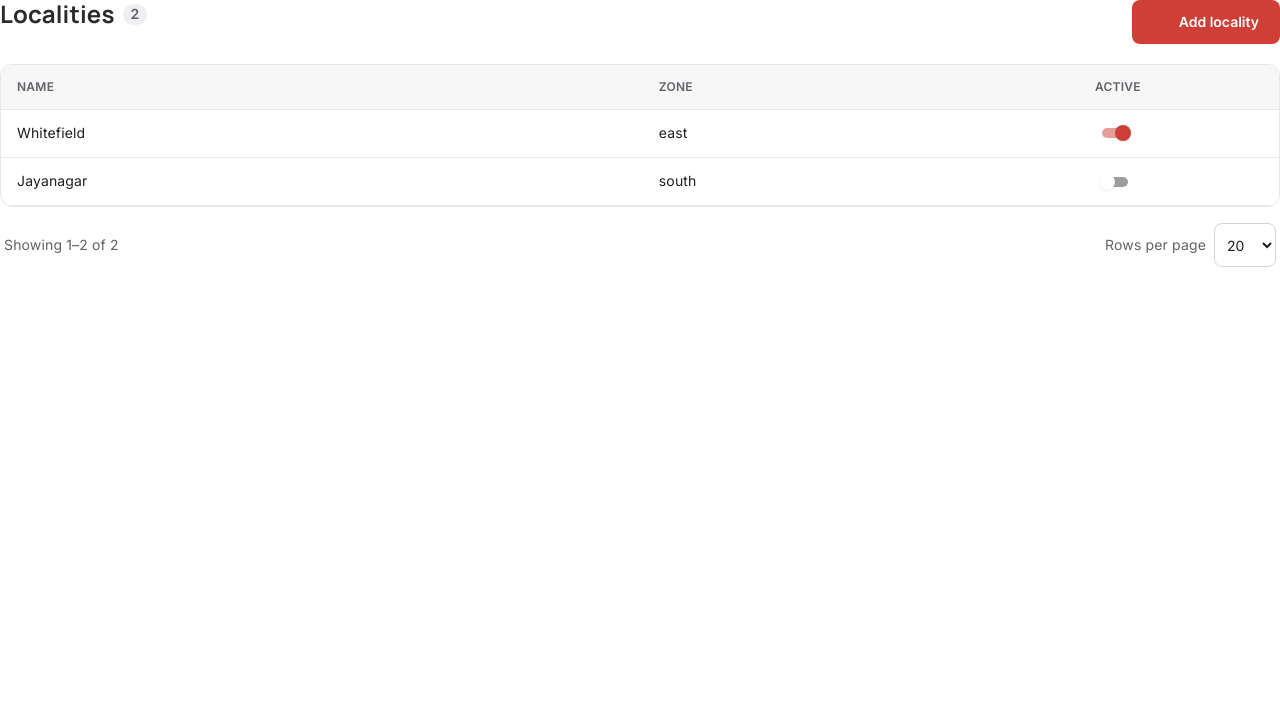
Test: MasterDataPage › field names in messages (QA-55) › names a field by its label rather than its key
Expected: the text "Whitefield" is shown, [1,110,643,158]
Click the button "Add locality" at (1206, 22), box [1132,0,1279,44]
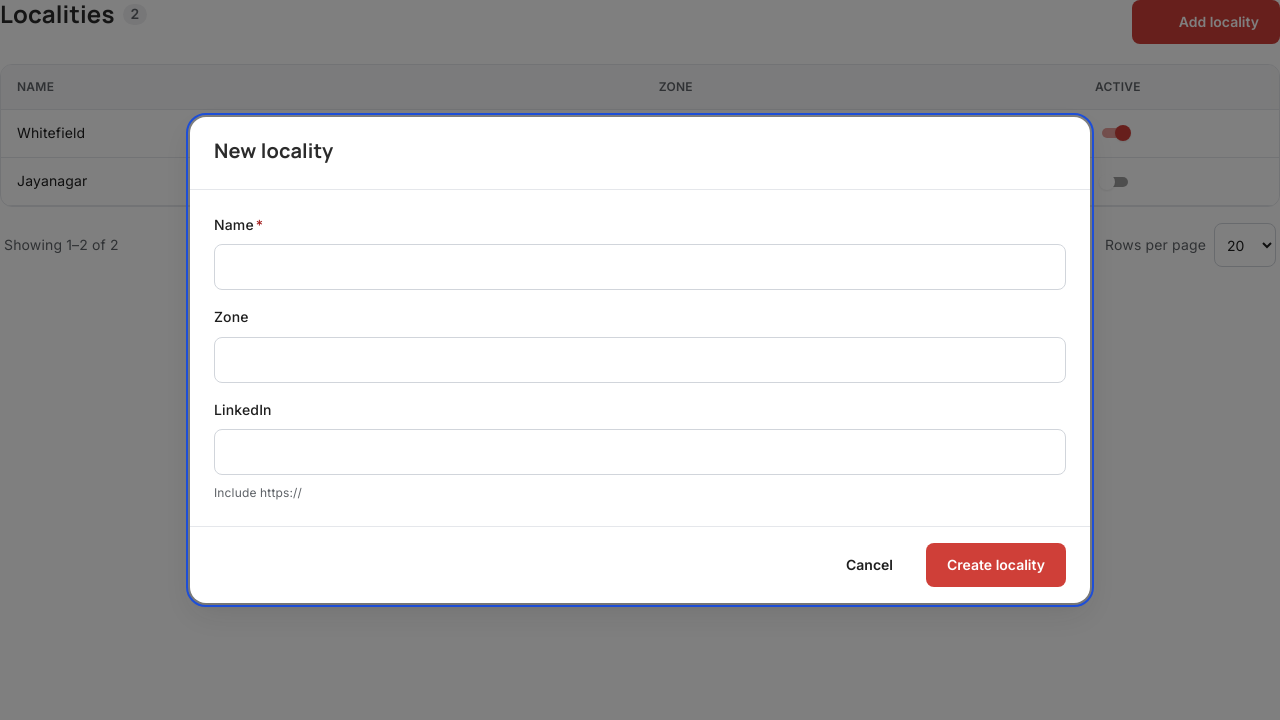
Type "Koramangala" into the field labelled "Name*" at (640, 267), box [214,244,1066,290]
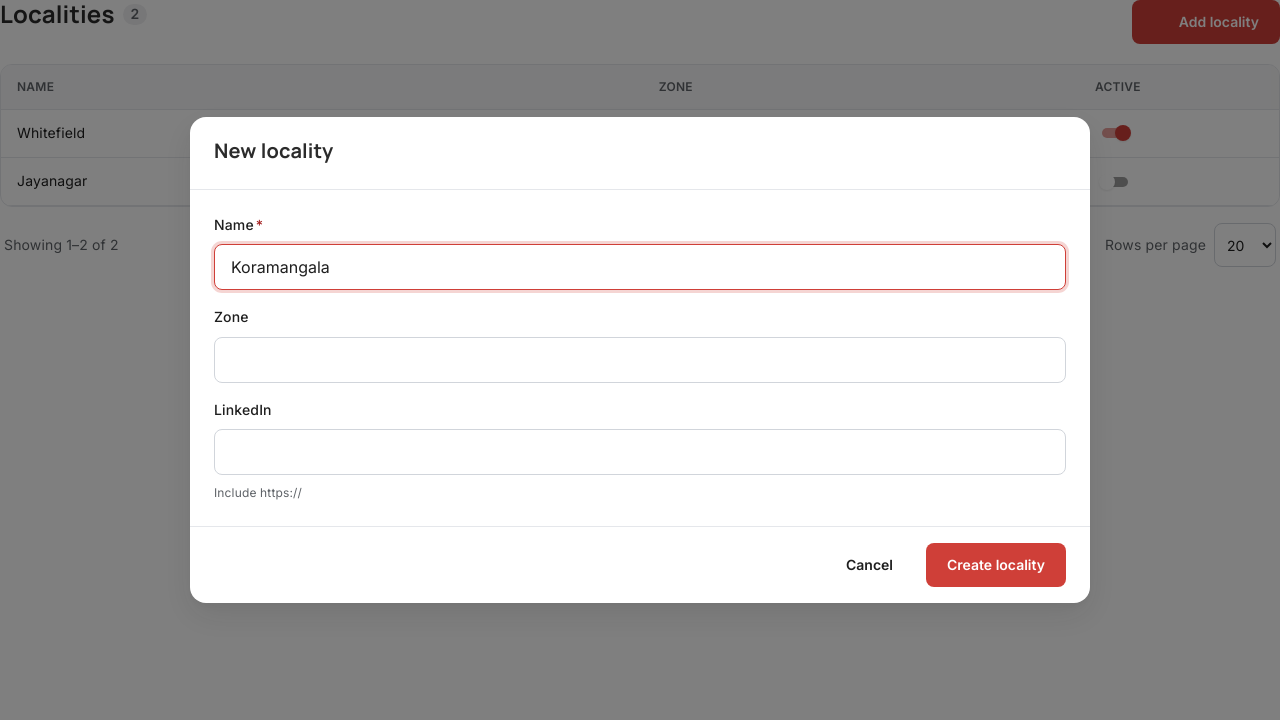
Click the button "Create locality" at (996, 565), box [926,543,1066,587]
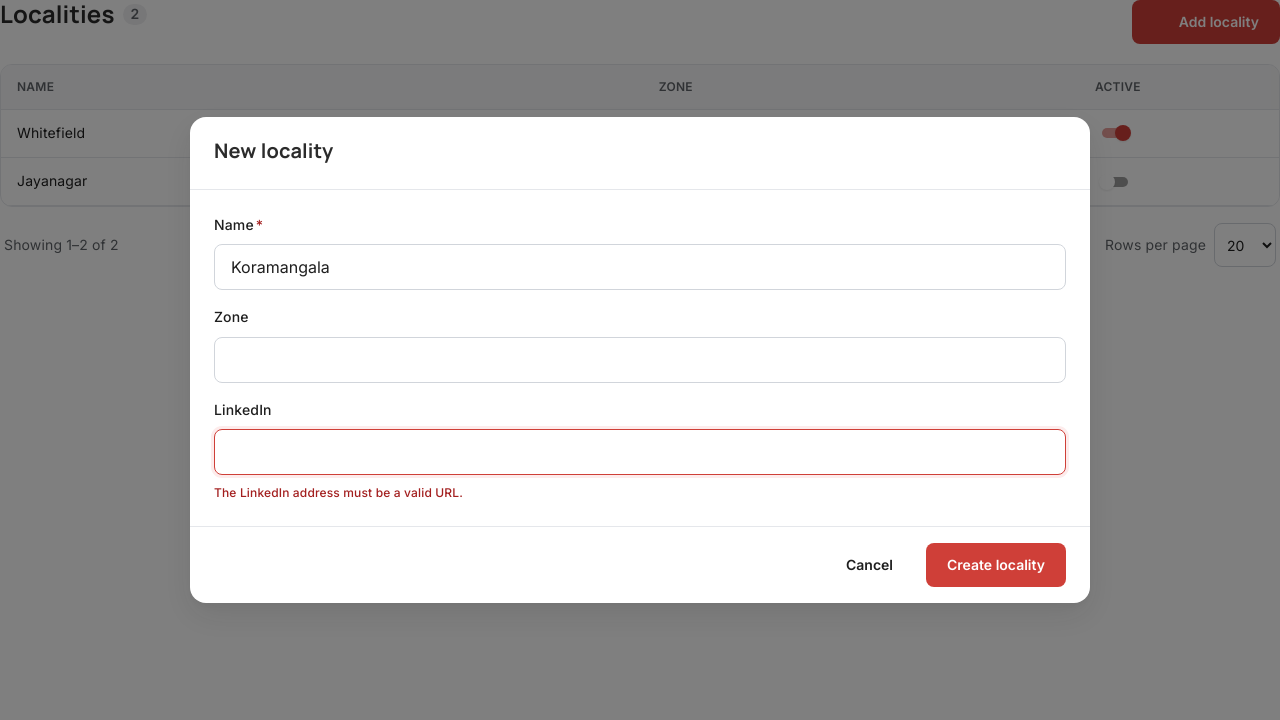
Result: the text "The LinkedIn address must be a valid URL." is shown at [214,485,463,500]
